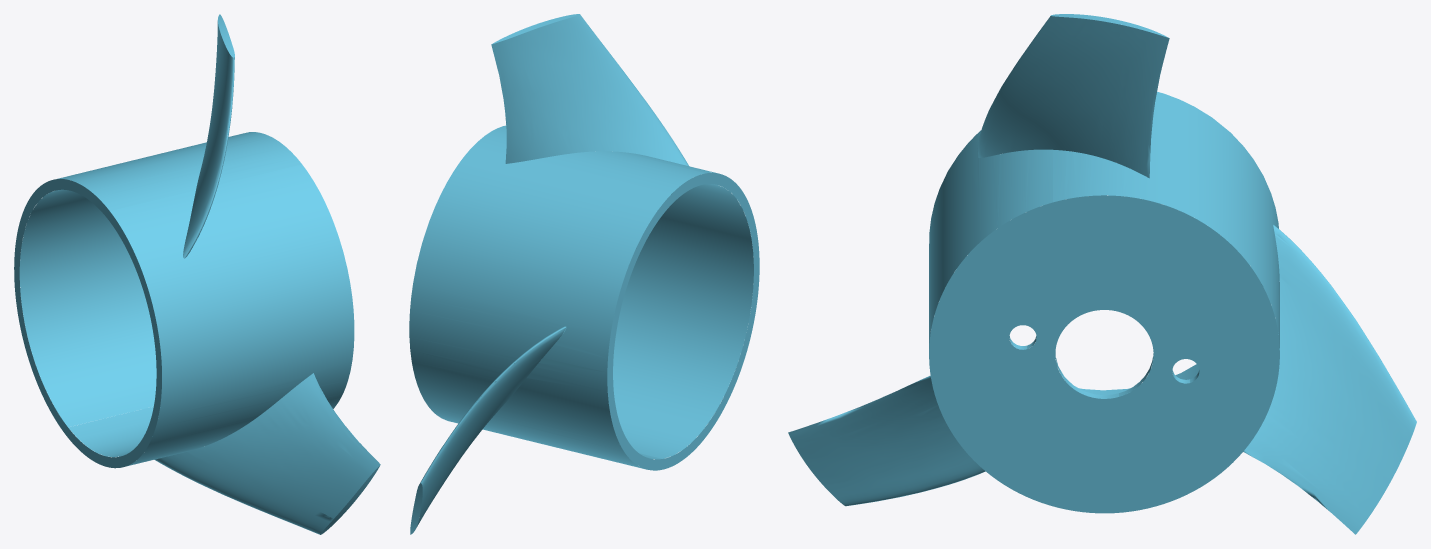
Rendered from bluerov2_propcw.glb.
3 views of the same model, side by side, from view 1: azimuth 30°, elevation 25°; view 2: azimuth 150°, elevation 25°; view 3: azimuth 270°, elevation 25° (orthographic). The views are drawn at different scales.
Parts seen in each view (by area): view 1: PropCW; view 2: PropCW; view 3: PropCW.
Boxes of the visible parts, left/top/right/bottom form: PropCW: left=14, top=14, right=380, bottom=534; PropCW: left=409, top=14, right=759, bottom=534; PropCW: left=788, top=14, right=1416, bottom=534.
Size of the model in its own units: 0.03 by 0.0632 by 0.0717.
